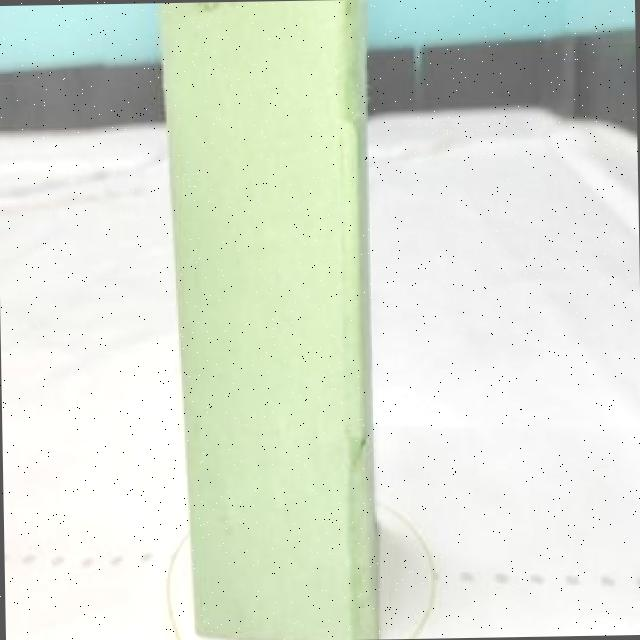greenbox: (162, 0, 383, 640)
